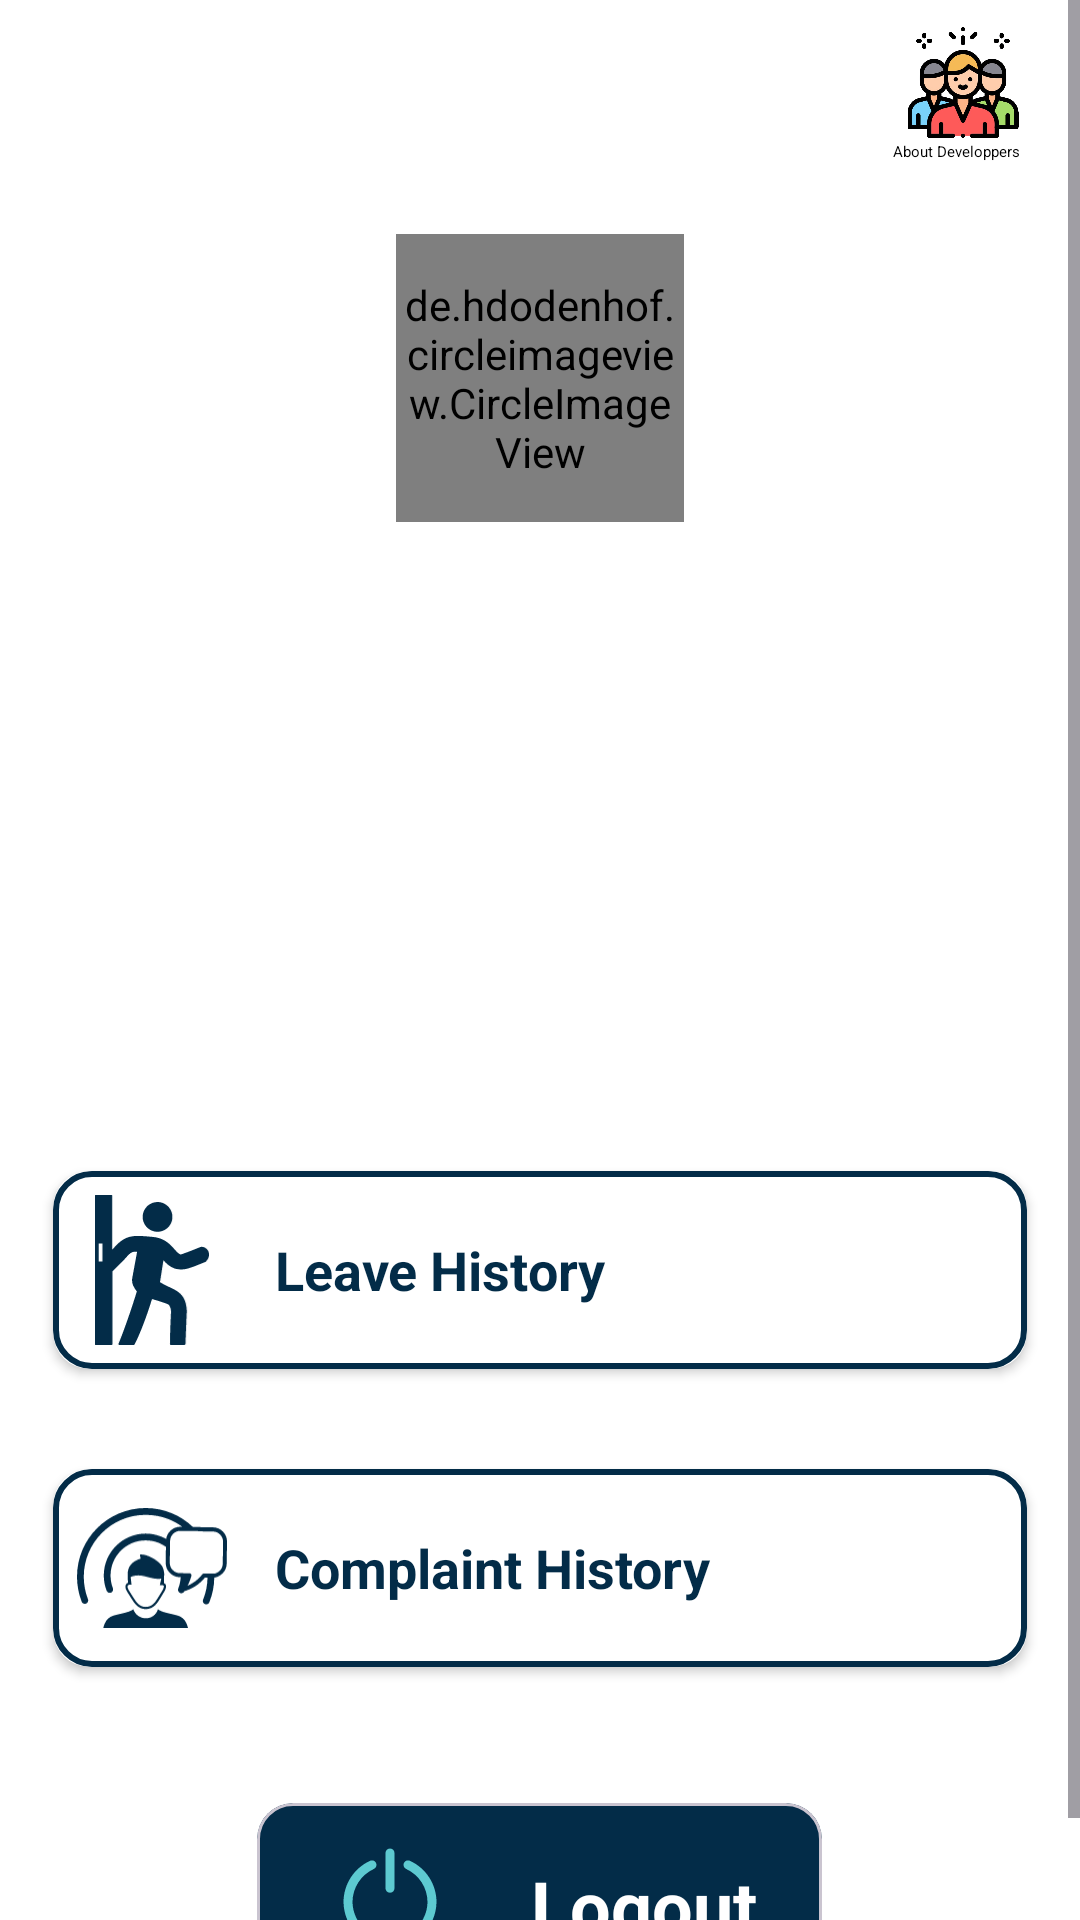

Point at icon controls on the screen. Image size 1080w x 1920h, points as point (x, y).
complaints: point (152, 1568)
